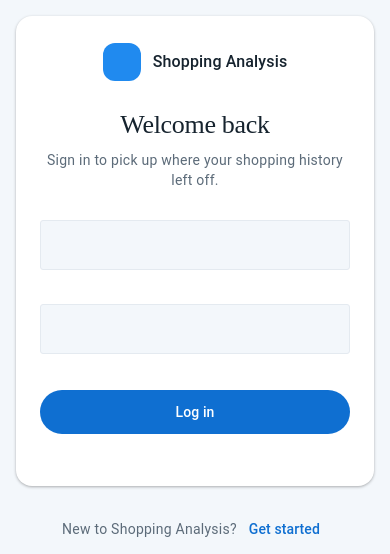
Scenario: LoginScreen › rejects a malformed email address
Step 1. Type "not-an-email" into the field named "Email" → (195, 246), box 40,222 -> 350,270
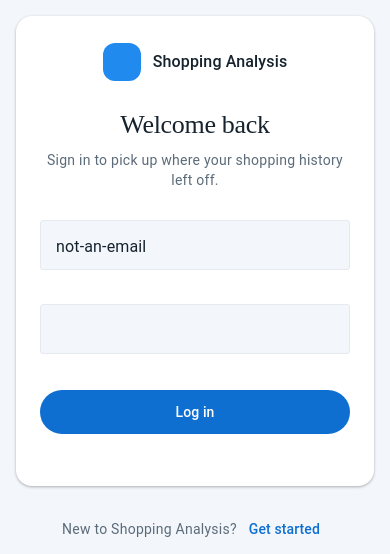
Step 2. Type "hunter2!!" into the password field named "Password" → (167, 330), box 40,306 -> 294,354
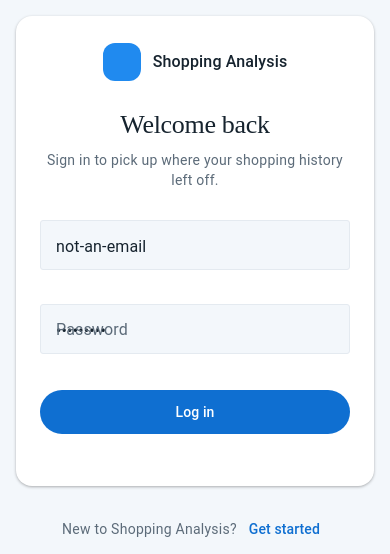
Step 3. Click the button labelled "Log in" → (195, 412), box 40,390 -> 350,434
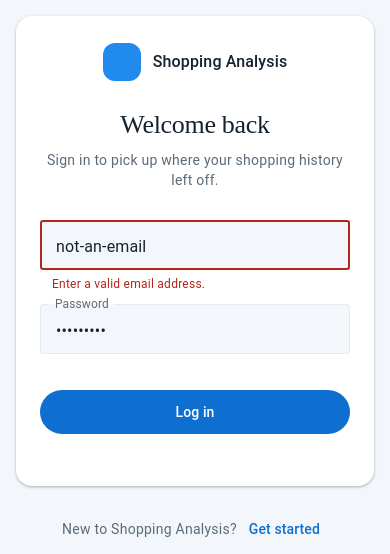
Result: the text "Enter a valid email address." is shown at 52,277 -> 205,291
